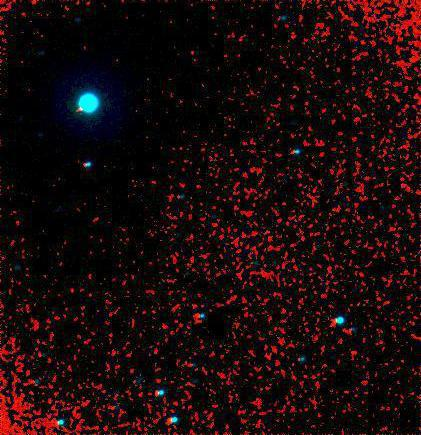star: (75, 93, 105, 123)
